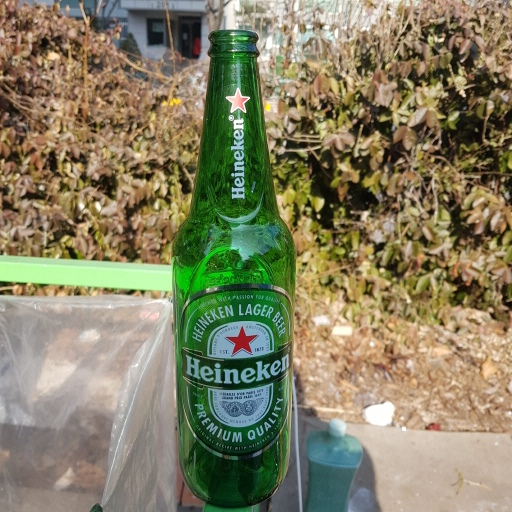Glass_1: (173, 25, 297, 502)
